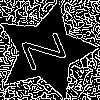Z: (21, 26, 77, 72)
